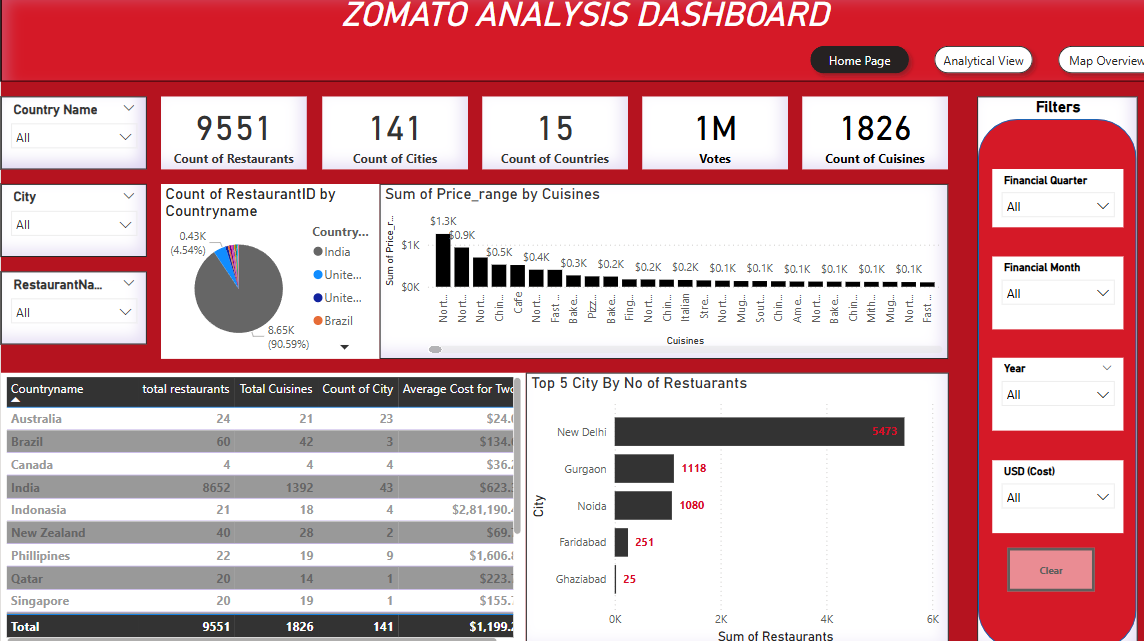

The dashboard page shown, as its layout file describes it:
{"tool":"powerbi","page":{"name":"Home Page","canvas":[1280,720],"ordinal":0},"visuals":[{"type":"textbox","title":"ZOMATO ANALYSIS DASHBOARD","box":[0,0,1280,96],"z":0},{"type":"card","fields":{"Values":["Count(Restaurants.RestaurantID)"]},"box":[176,112,160,80],"z":1000},{"type":"card","fields":{"Values":["Count(Restaurants.CountryCode)"]},"box":[528,112,160,80],"z":2000},{"type":"card","fields":{"Values":["Count(Restaurants.City)"]},"box":[352,112,160,80],"z":3000},{"type":"card","fields":{"Values":["Sum(Restaurants.Votes)"]},"box":[704,112,160,80],"z":4000},{"type":"card","fields":{"Values":["Count(Restaurants.Cuisines)"]},"box":[880,112,160,80],"z":5000},{"type":"slicer","fields":{"Values":["Restaurants.Countryname"]},"box":[0,112,160,80],"z":6000},{"type":"clusteredBarChart","title":"Top 5 City By No of Restuarants","fields":{"Category":["TOP5.City"],"Y":["Sum(TOP5.RestaurantCount)"]},"box":[576,416,464,304],"z":7000},{"type":"pieChart","fields":{"Y":["CountNonNull(Restaurants.RestaurantID)"],"Category":["Restaurants.Countryname"]},"box":[176,208,240,192],"z":8000},{"type":"tableEx","fields":{"Values":["Restaurants.Countryname","Restaurants.total restaurants","Restaurants.Total Cuisines","Restaurants.City","Restaurants.Average Cost for Two1"]},"box":[0,416,576,304],"z":9000},{"type":"slicer","fields":{"Values":["Restaurants.City"]},"box":[0,208,160,80],"z":10000},{"type":"slicer","fields":{"Values":["Restaurants.RestaurantName"]},"box":[0,304,160,80],"z":11000},{"type":"clusteredColumnChart","fields":{"Category":["Restaurants.Cuisines"],"Y":["Sum(Restaurants.Price_range)"]},"box":[416,208,624,192],"z":12000},{"type":"pageNavigator","box":[880,48,400,48],"z":13000},{"type":"shape","title":"Filters","box":[1072,112,176,608],"z":14000},{"type":"slicer","fields":{"Values":["Date.Year"]},"box":[1088,400,144,80],"z":15000},{"type":"slicer","fields":{"Values":["Date.Financial Quarter"]},"box":[1088,192,144,64],"z":16000},{"type":"slicer","fields":{"Values":["Date.Financial Month"]},"box":[1088,288,144,80],"z":17000},{"type":"slicer","fields":{"Values":["Restaurants.USD (Cost)"]},"box":[1088,512,144,80],"z":18000},{"type":"actionButton","box":[1104,608,96,48],"z":19000}]}

Visuals, with their boxes in screenshot pixels (x1, y1, x2, y2), scaled from the page's 1280x720 canvas onto the 1144x641 screenshot:
"ZOMATO ANALYSIS DASHBOARD" textbox: 0:0:1143:85
card - Count(Restaurants.RestaurantID): 157:100:300:171
card - Count(Restaurants.CountryCode): 472:100:615:171
card - Count(Restaurants.City): 315:100:458:171
card - Sum(Restaurants.Votes): 629:100:772:171
card - Count(Restaurants.Cuisines): 786:100:930:171
slicer - Restaurants.Countryname: 0:100:143:171
"Top 5 City By No of Restuarants" clusteredBarChart: 515:370:930:640
pieChart - CountNonNull(Restaurants.RestaurantID) x Restaurants.Countryname: 157:185:372:356
tableEx - Restaurants.Countryname x Restaurants.total restaurants: 0:370:515:640
slicer - Restaurants.City: 0:185:143:256
slicer - Restaurants.RestaurantName: 0:271:143:342
clusteredColumnChart - Restaurants.Cuisines x Sum(Restaurants.Price_range): 372:185:930:356
pageNavigator: 786:43:1143:85
"Filters" shape: 958:100:1115:640
slicer - Date.Year: 972:356:1101:427
slicer - Date.Financial Quarter: 972:171:1101:228
slicer - Date.Financial Month: 972:256:1101:328
slicer - Restaurants.USD (Cost): 972:456:1101:527
actionButton: 987:541:1072:584
